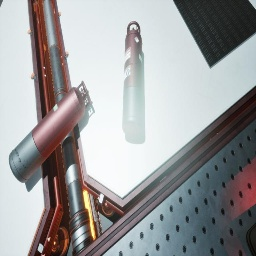NitrogenTank ,: (9, 81, 92, 183), (122, 21, 143, 137)
